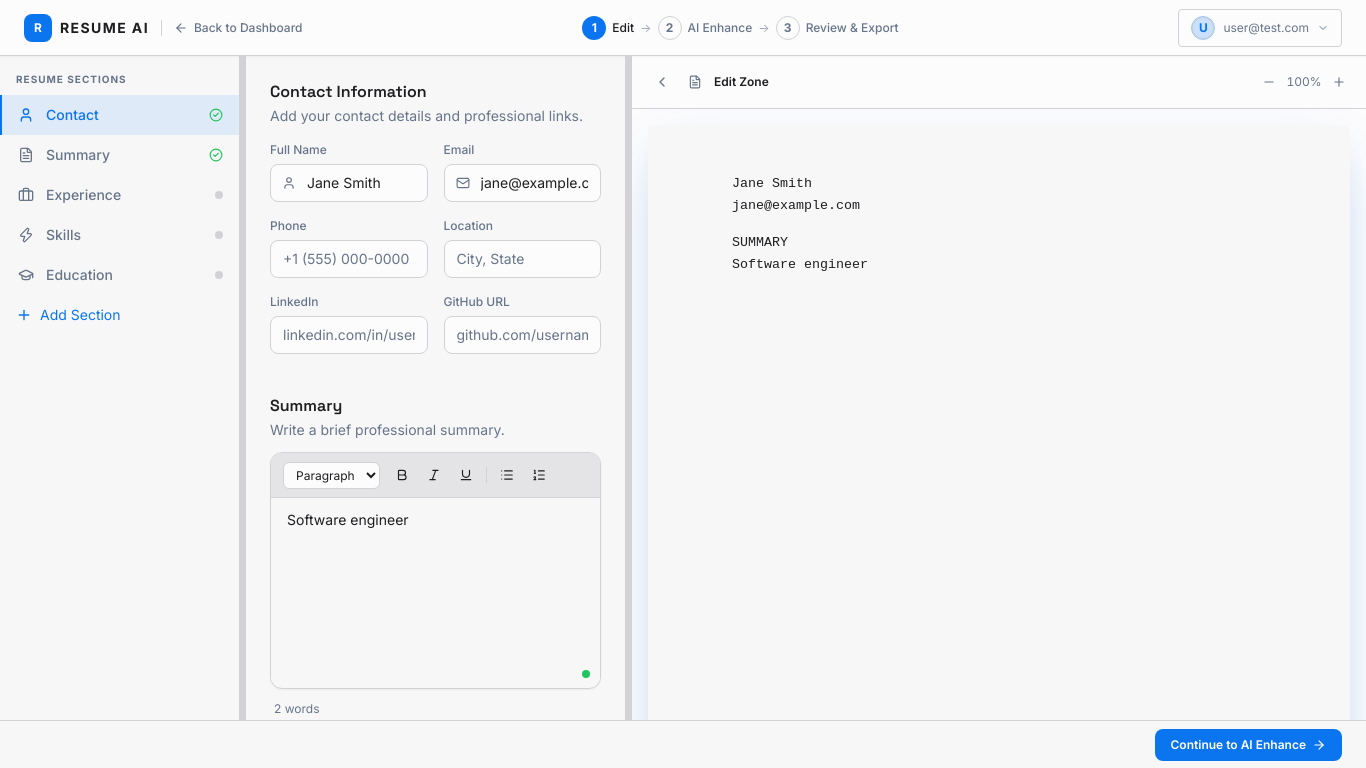
ResumeEditor — save button › shows "Save Changes" button and opens save dialog when logged-in user clicks it
// Navigate to step 3 where the Save button lives in the toolbar
Click the button "Continue to AI Enhance" at (1248, 744), box [1154,728,1342,760]
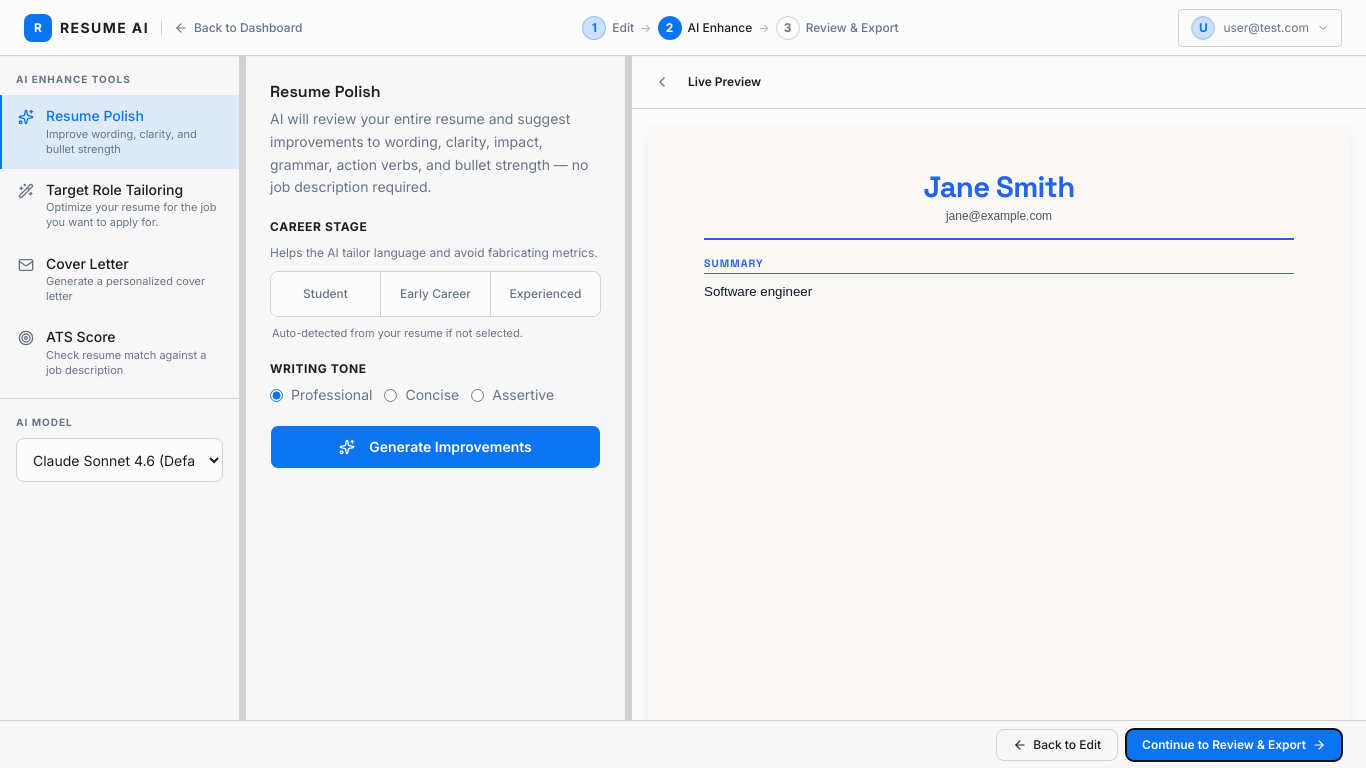
Click the button "Continue to Review & Export" at (1234, 744), box [1126,728,1342,760]
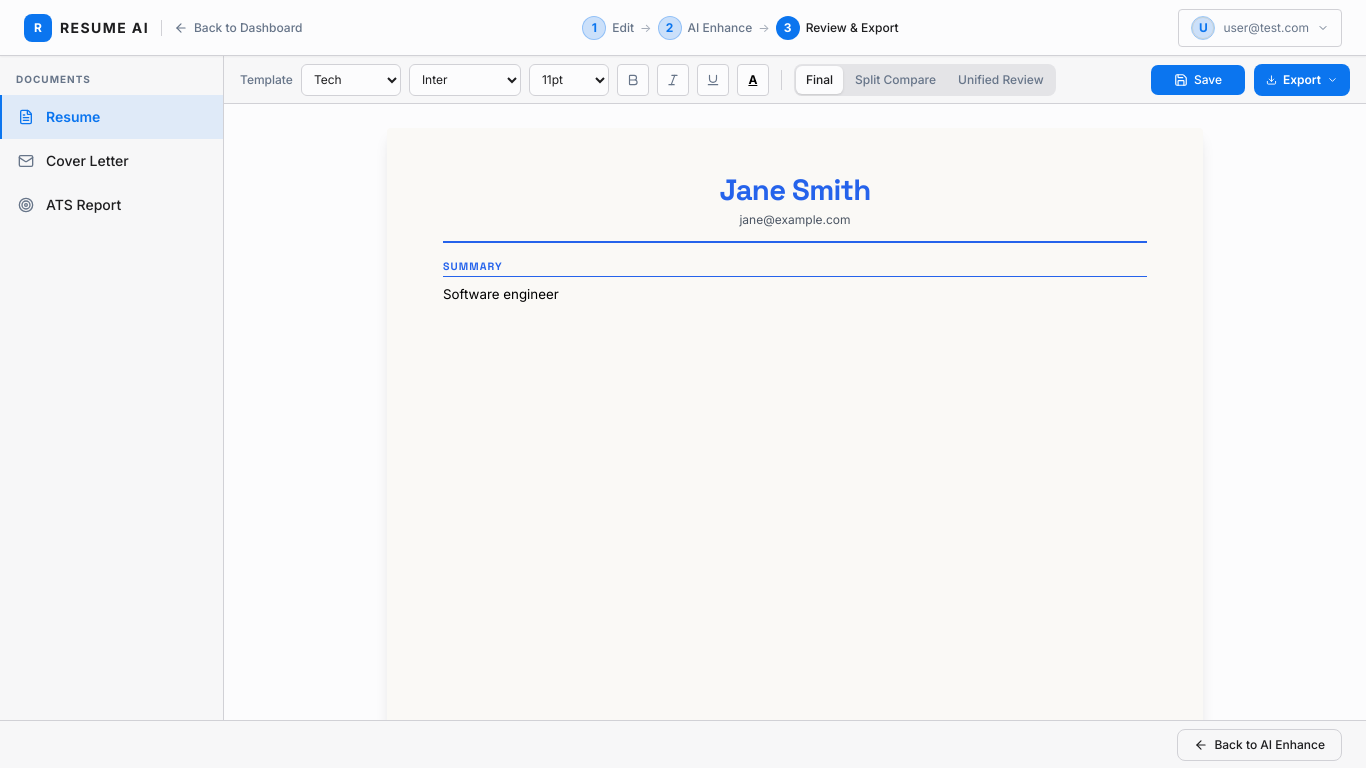
expect the button "Save" is shown: met
Click the button "Save" at (1198, 80), box [1150,64,1246,96]
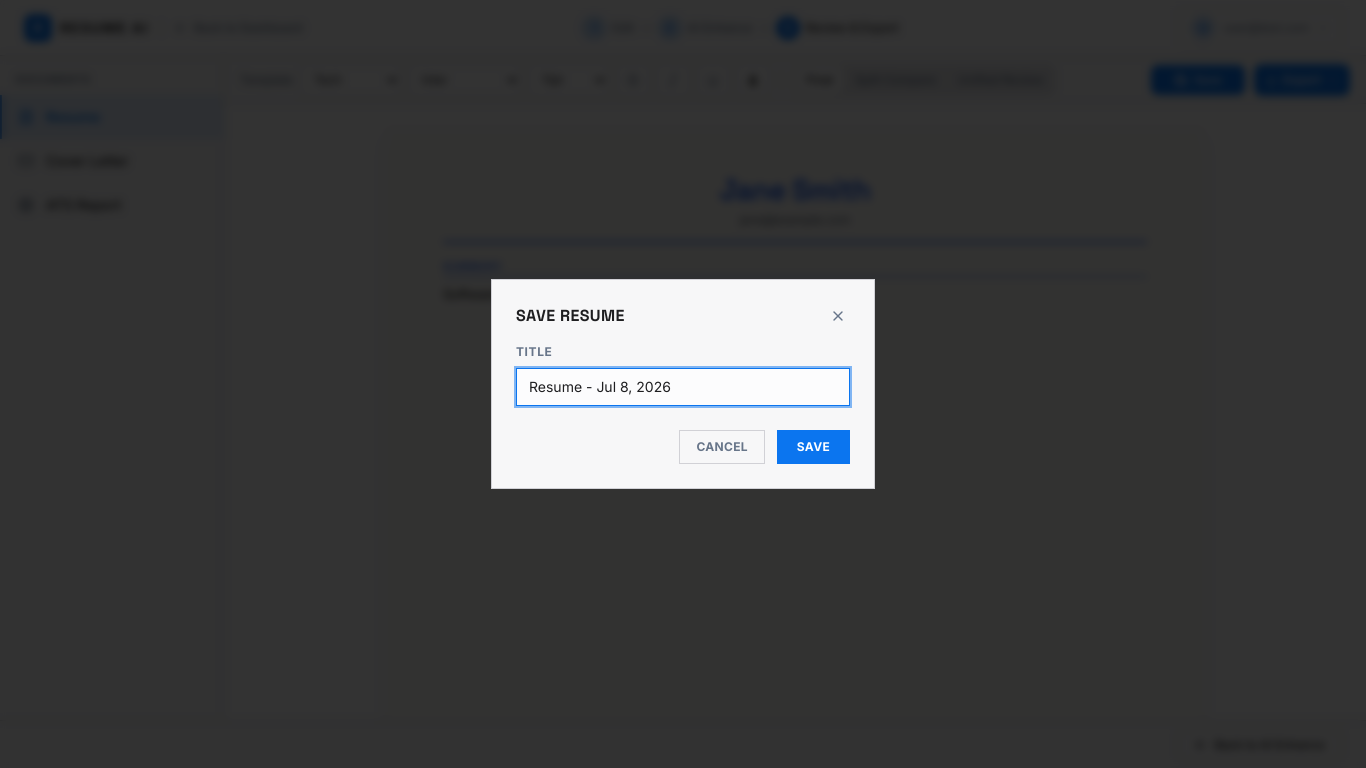
expect the heading "Save Resume" is shown: met, box [516,304,625,328]
